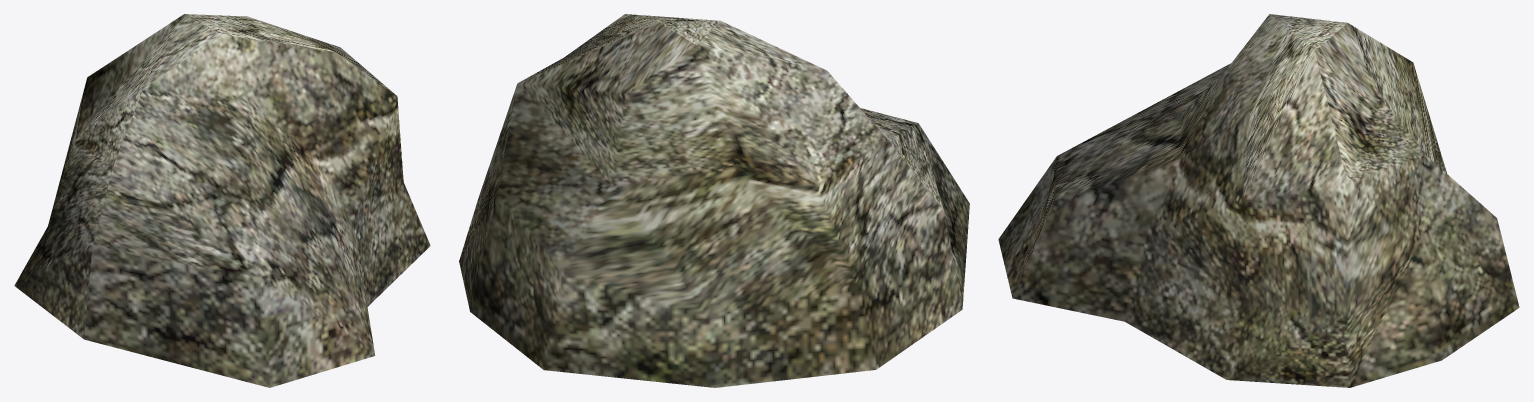
File: general_obj_stone02.fbx
The picture shows the model from 3 angles, left to right: view 1: azimuth 30°, elevation 25°; view 2: azimuth 150°, elevation 25°; view 3: azimuth 270°, elevation 25°; orthographic projection. The views are drawn at different scales.
Visible parts, largest first — view 1: Sphere01; view 2: Sphere01; view 3: Sphere01.
Boxes of the visible parts, x1=… form: Sphere01: x1=14, y1=14, x2=430, y2=387; Sphere01: x1=459, y1=14, x2=969, y2=387; Sphere01: x1=998, y1=14, x2=1519, y2=387.
Bounding box in the file's own units: 2.36 × 1.44 × 2.65.
